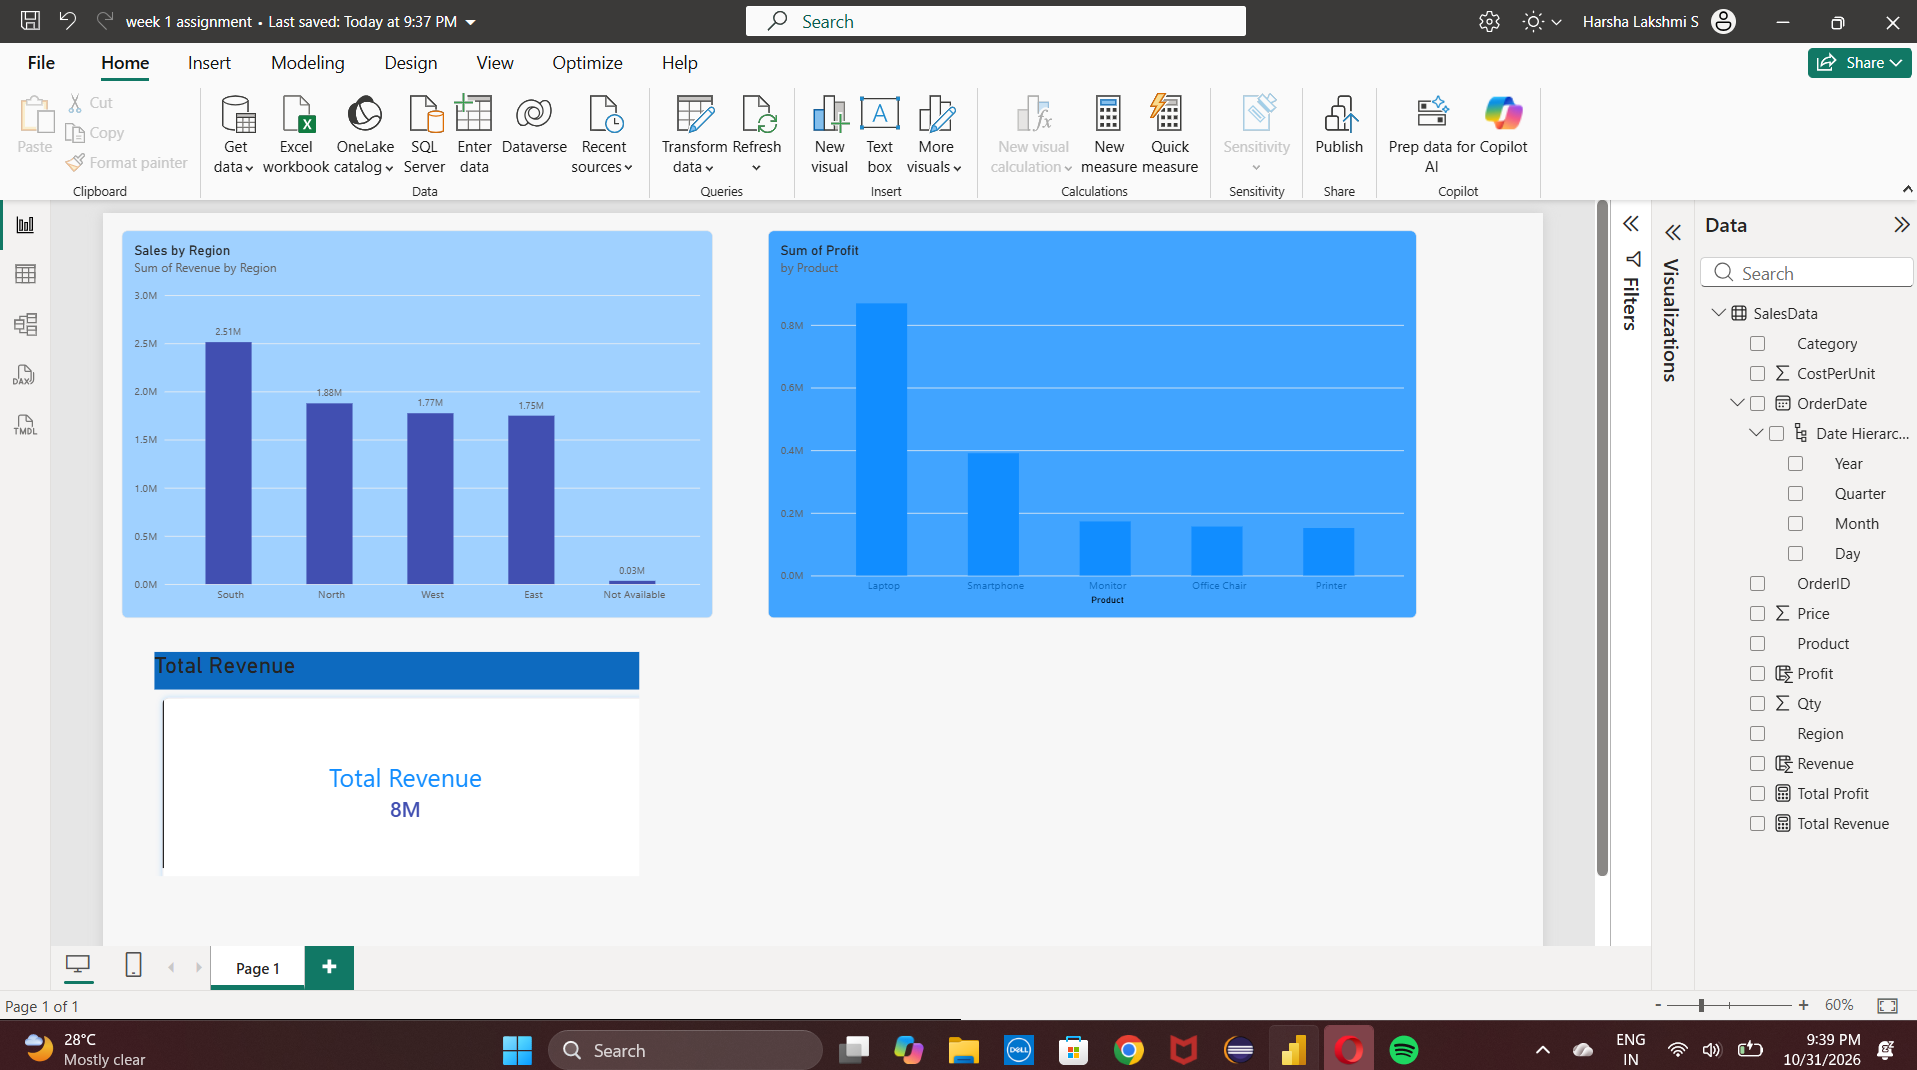

The page's visual inventory and layout, read from the dashboard file:
{"tool":"powerbi","page":{"name":"Page 1","canvas":[1920,1080],"ordinal":0},"visuals":[{"type":"cardVisual","title":"Total Revenue","fields":{"Data":["SalesData.Total Revenue"]},"box":[68.3,585,646.7,300],"z":0},{"type":"clusteredColumnChart","title":"Sales by Region","fields":{"Category":["SalesData.Region"],"Y":["Sum(SalesData.Revenue)"]},"box":[25,23.3,788.3,516.7],"z":1000},{"type":"clusteredColumnChart","fields":{"Category":["SalesData.Product"],"Y":["Sum(SalesData.Profit)"]},"box":[886.7,23.3,865,516.7],"z":2000}]}

Visuals, with their boxes on the page's 1920x1080 design canvas (x1, y1, x2, y2). These are canvas units, not pixel positions in the 1917x1070 screenshot, which may show the page scaled, cropped or inside an application window:
"Total Revenue" cardVisual: pyautogui.locateOnScreen(68, 585, 715, 885)
"Sales by Region" clusteredColumnChart: pyautogui.locateOnScreen(25, 23, 813, 540)
clusteredColumnChart - SalesData.Product x Sum(SalesData.Profit): pyautogui.locateOnScreen(887, 23, 1752, 540)
